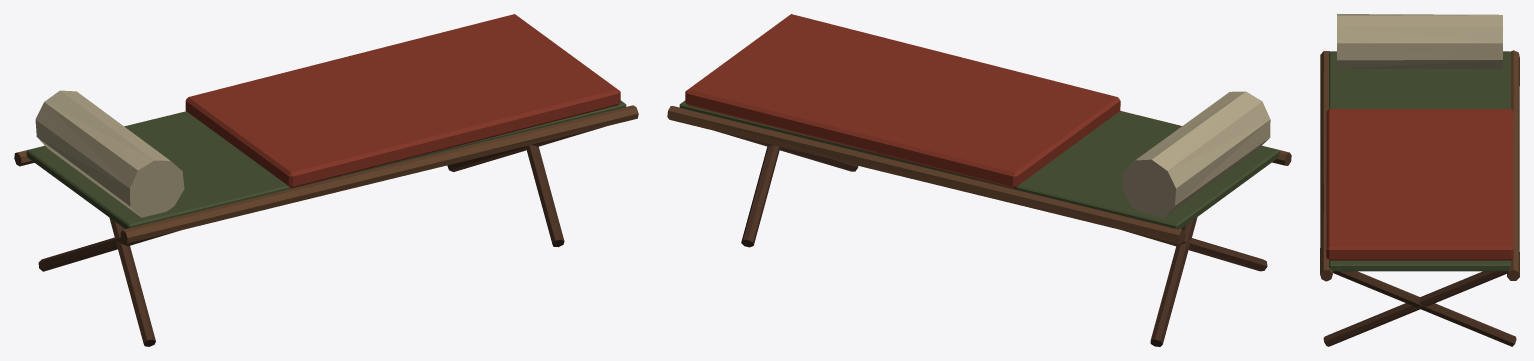
The model's file is cot.glb.
3 views of the same model, side by side, from view 1: azimuth 30°, elevation 25°; view 2: azimuth 150°, elevation 25°; view 3: azimuth 270°, elevation 25° (orthographic). The views are drawn at different scales.
Visible parts, largest first — view 1: cot; view 2: cot; view 3: cot.
Part boxes in pixels (box(x1,y1,x2,y2)): cot: box(14, 14, 638, 346); cot: box(667, 14, 1291, 346); cot: box(1320, 14, 1519, 346).
Size of the model in its own units: 2 by 0.68 by 0.7695.
